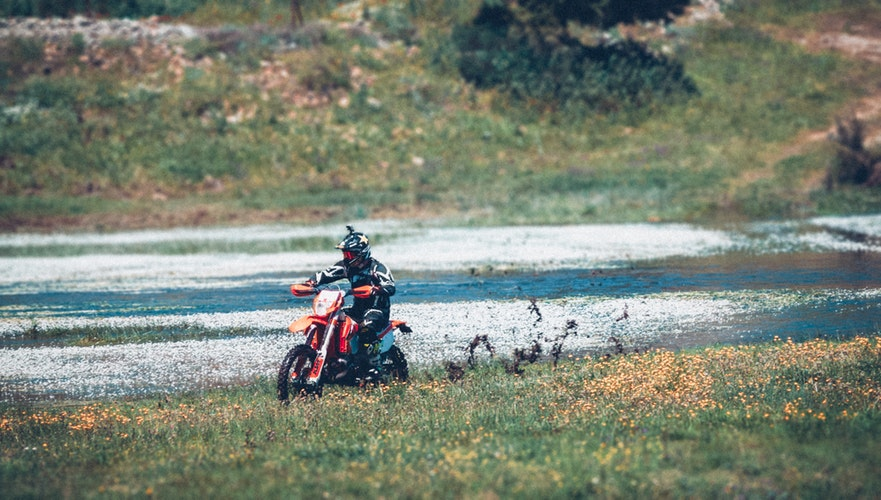helmet: (336, 230, 379, 274)
